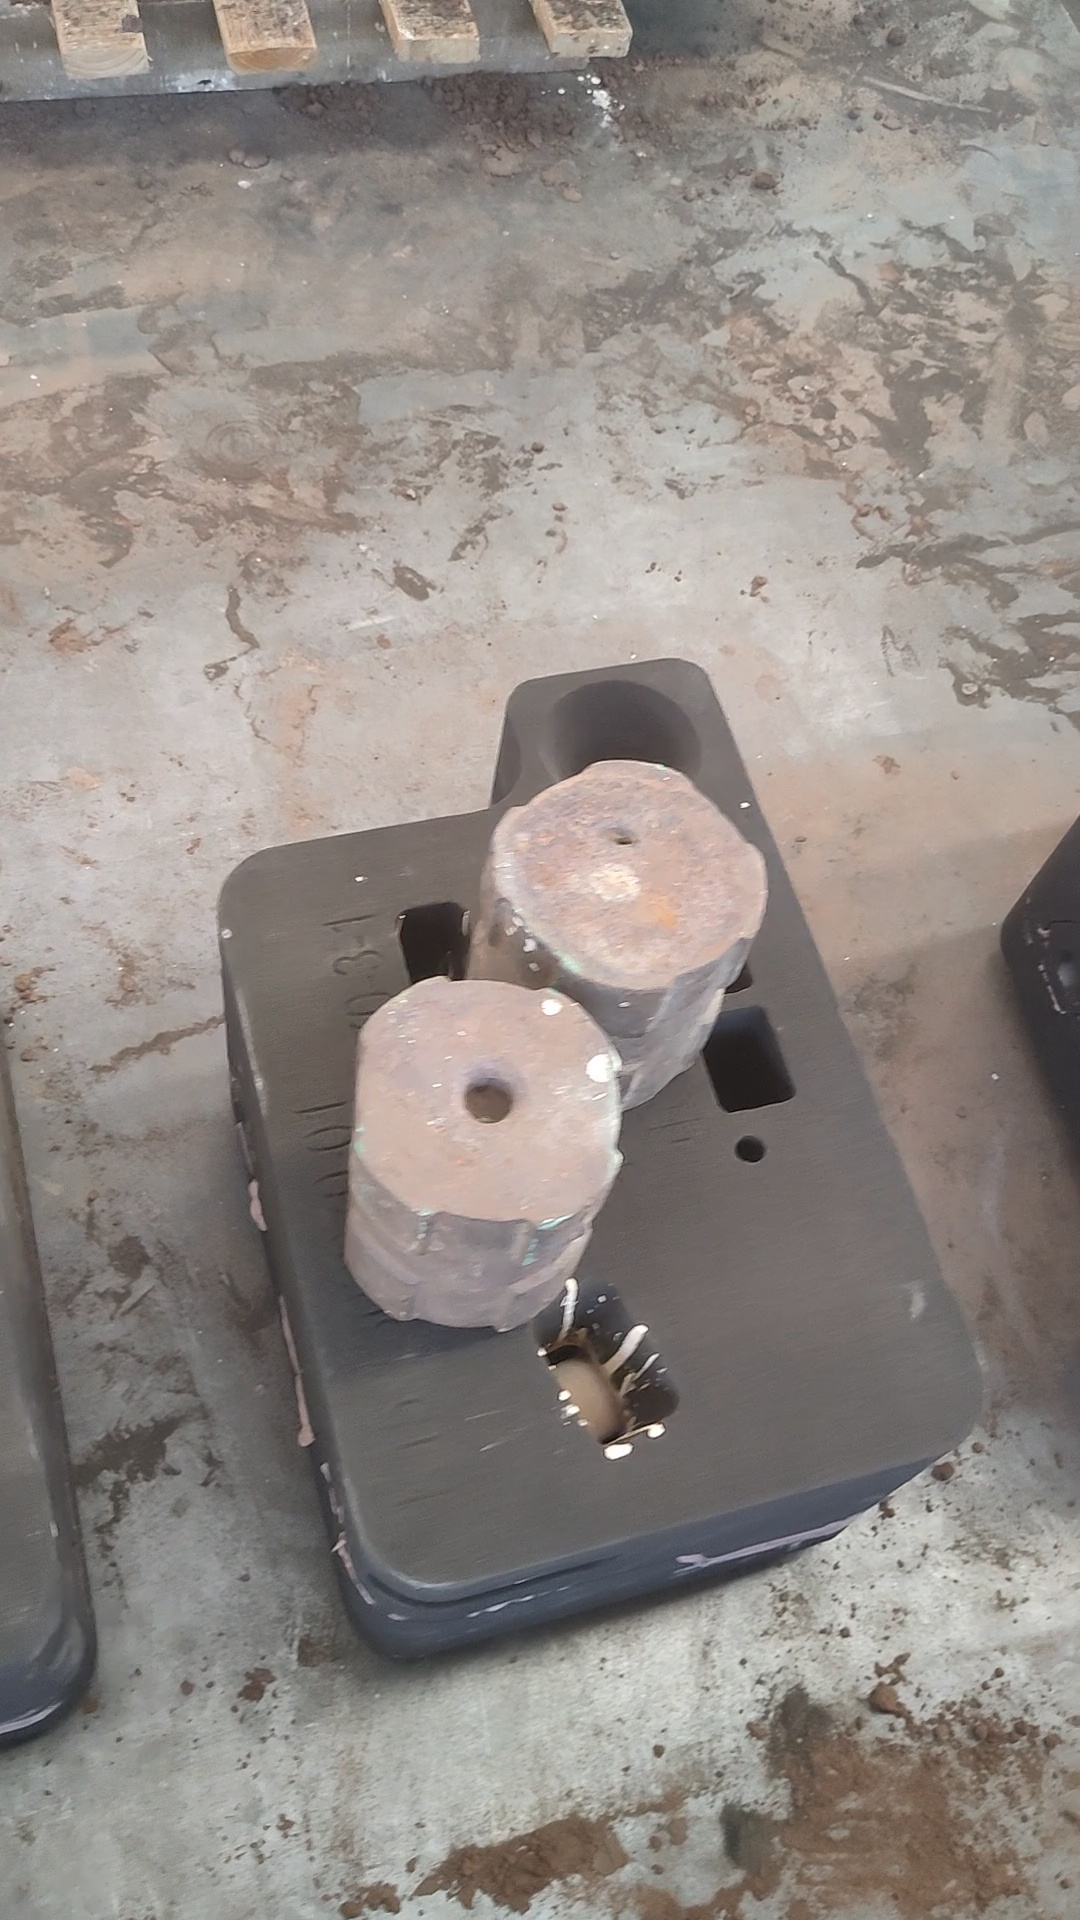pouring hole: (538, 680, 703, 807)
